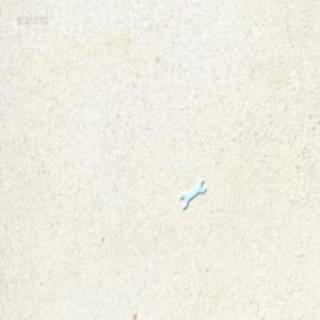Wrenchtrack_idkeyframe: (177, 175, 203, 205)
